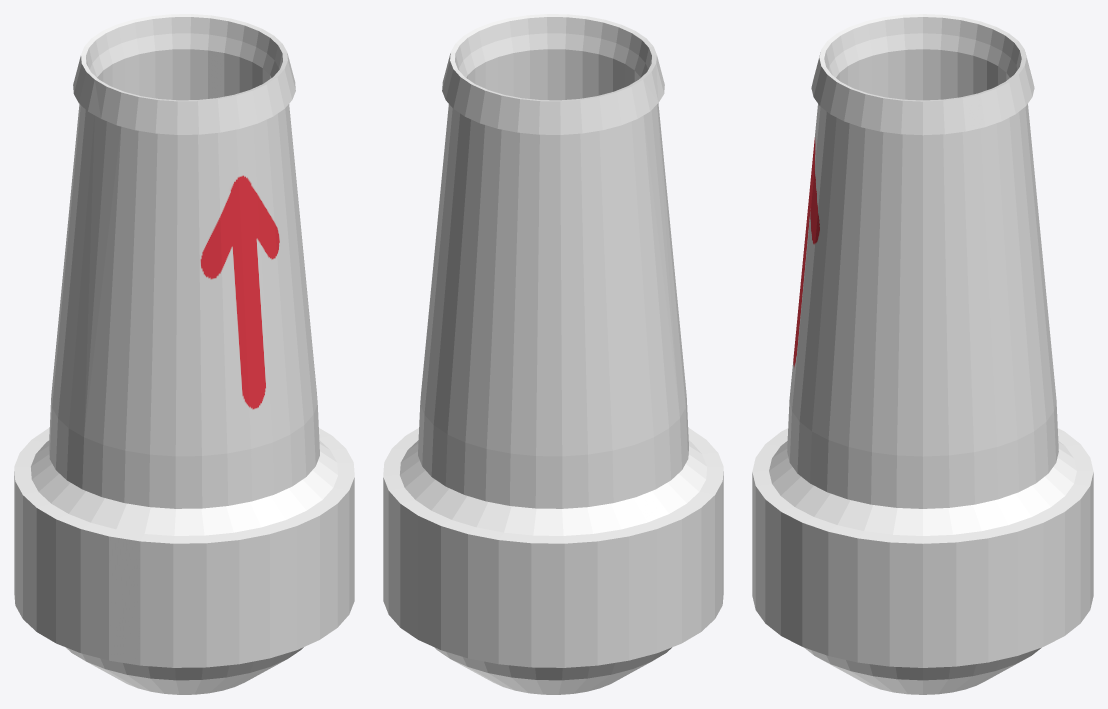
Rendered from Cannon.obj.
The picture shows the model from 3 angles, left to right: view 1: azimuth 30°, elevation 25°; view 2: azimuth 150°, elevation 25°; view 3: azimuth 270°, elevation 25°; orthographic projection.
Parts seen in each view (by area): view 1: 円柱; view 2: 円柱; view 3: 円柱.
Part boxes in pixels (x1=…): 円柱: x1=14, y1=14, x2=354, y2=694; 円柱: x1=383, y1=14, x2=723, y2=694; 円柱: x1=752, y1=14, x2=1093, y2=694.
Bounding box in the file's own units: 1.4 × 2.74 × 1.4.
Materials: 1 (1 with a texture image).
